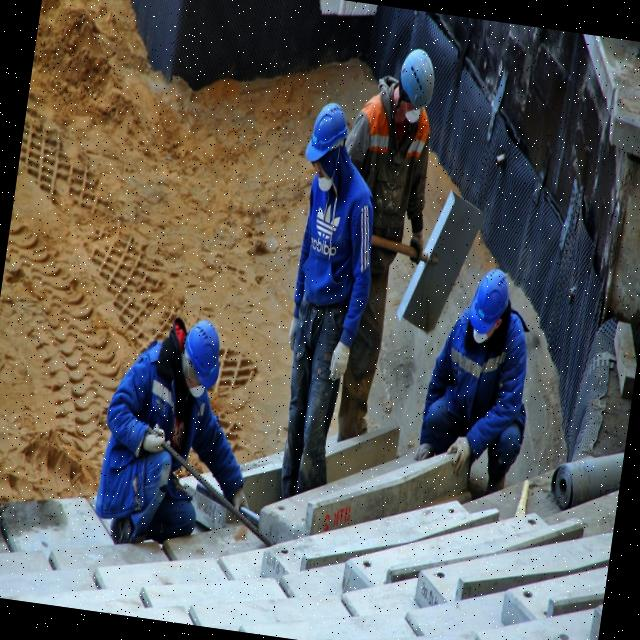Helmet: (467, 264, 516, 340), (180, 318, 228, 393), (305, 99, 353, 170), (396, 47, 443, 115)
Jacket: (355, 97, 435, 261)
NoJacket: (113, 378, 208, 521), (295, 172, 372, 344), (436, 334, 527, 463)
